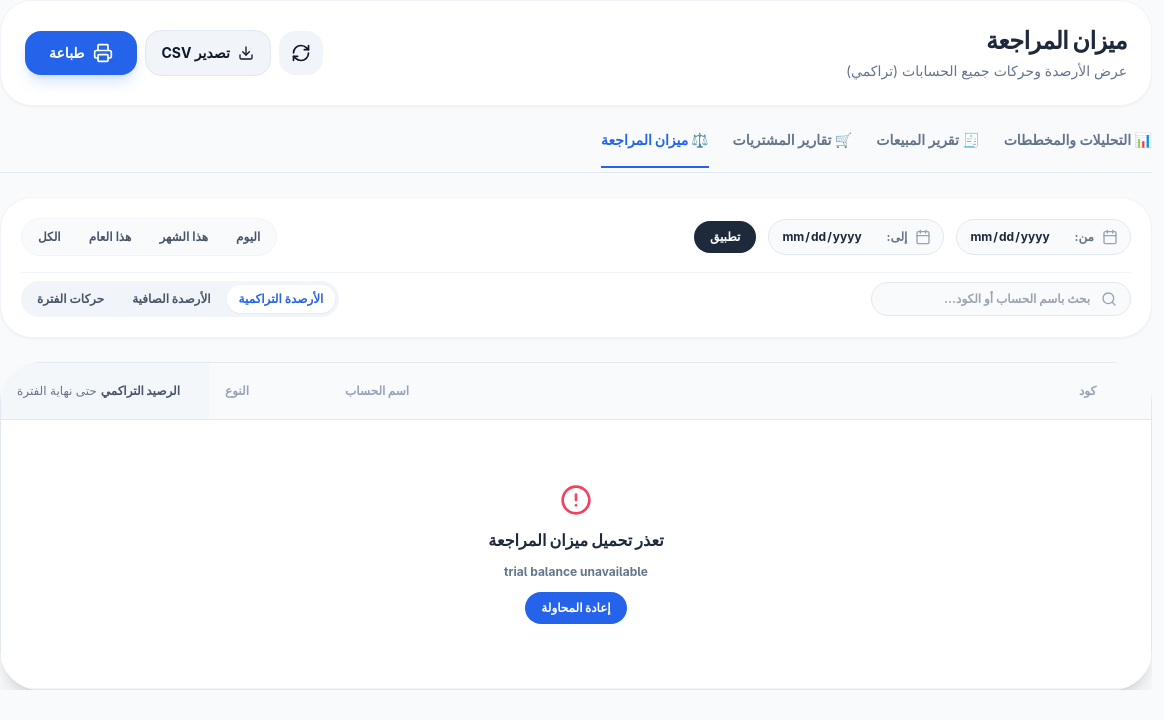
Test case: coverage gap: trial balance load errors › distinguishes a returned report failure from a legitimate empty result and retries
The width and height of the screenshot is (1164, 720).
Check: the text "تعذر تحميل ميزان المراجعة" is shown, box [488,528,664,552]
Check: the text "trial balance unavailable" is shown, box [504,564,648,580]
Click the button "إعادة المحاولة".
click(576, 608)  # box [525,592,627,624]
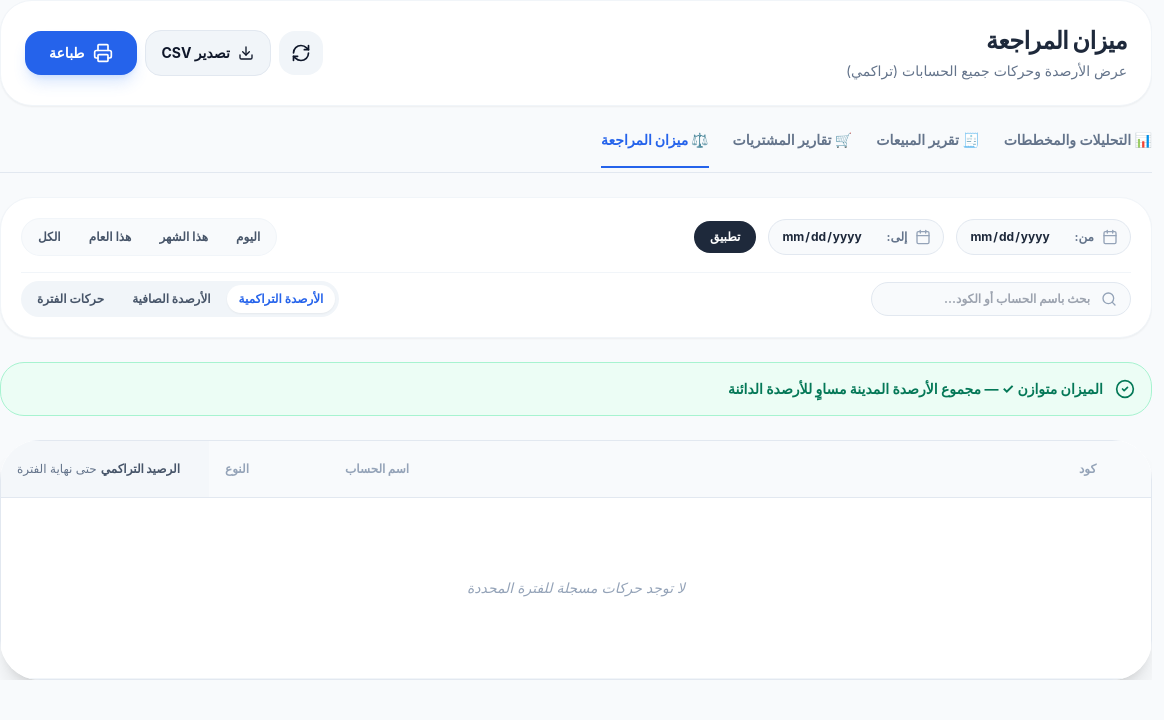
Check: the text "لا توجد حركات مسجلة للفترة المحددة" is shown, box [1,498,1151,678]
